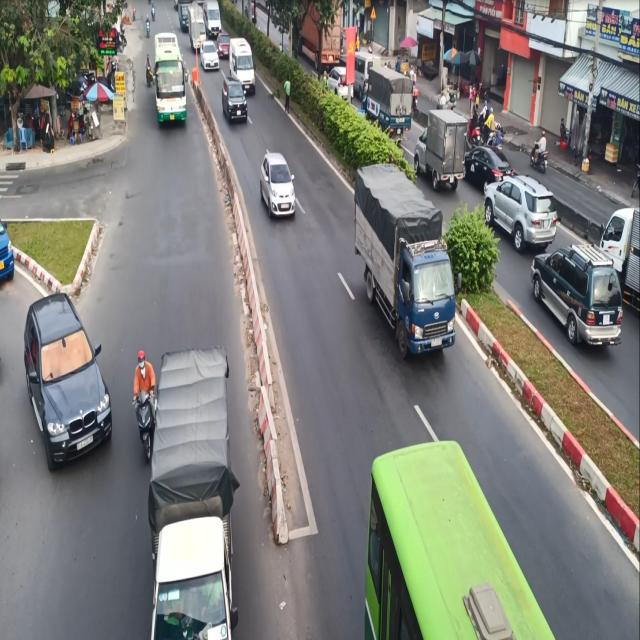bus: (151, 31, 189, 132)
car: (20, 295, 118, 493), (258, 147, 302, 232), (222, 78, 246, 132), (201, 35, 222, 81)
motor: (133, 339, 159, 469)
truck: (154, 331, 243, 640), (351, 157, 462, 385)
